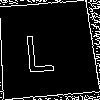L: (22, 24, 56, 73)
